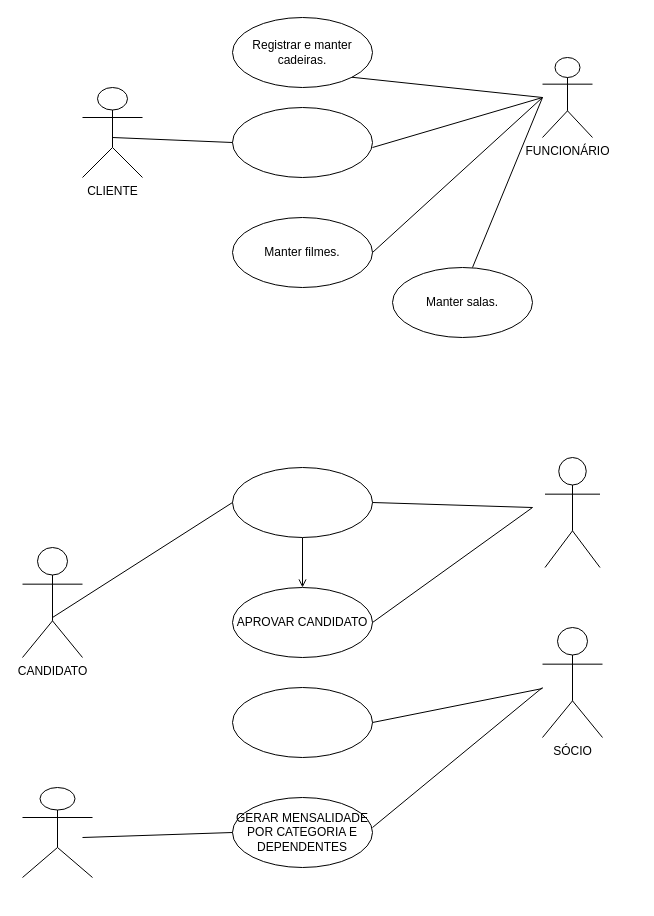
Image size: 654x916. Some labels were removed from this diagram. The centre of each missing label's shape, as x and y in pixels:
COMISSÃO NOMEADA: point (572, 512)
Manter/Comprar e vender ingressos: point (302, 142)
O CLUBE: point (57, 832)
PAGAR MENSALIDADE: point (302, 722)
SOLICITAR E MANTER CADASTRO: point (302, 502)
